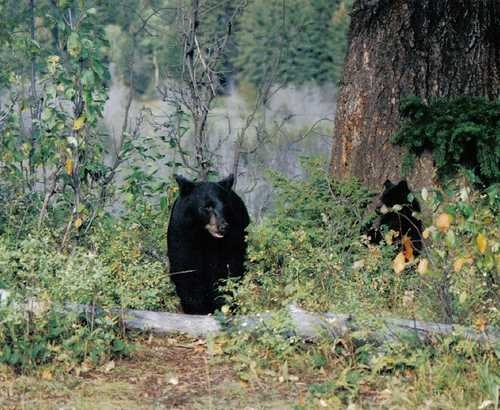bear: (145, 167, 273, 295), (334, 165, 462, 293)
